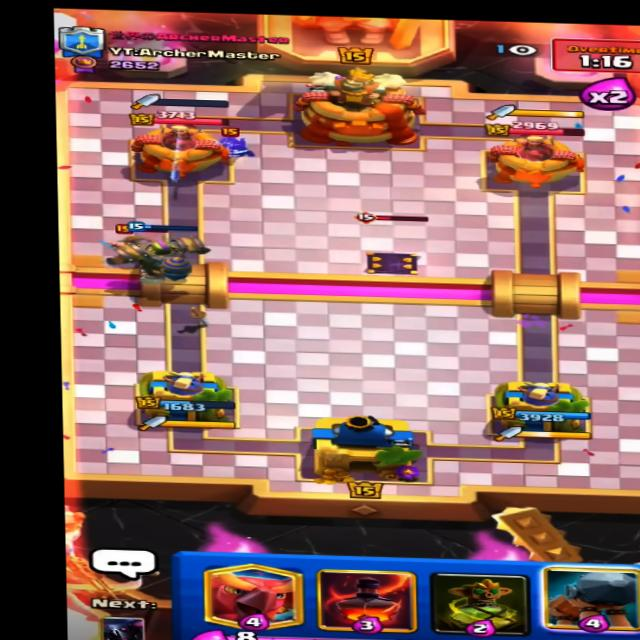electro-spirit: (201, 124, 264, 166)
evo-tesla-closed: (344, 213, 437, 280)
knight: (104, 218, 170, 259)
